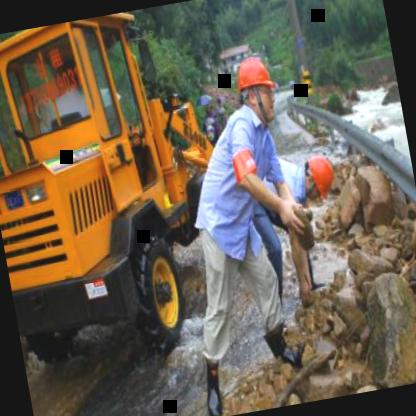helmet: (229, 50, 284, 126), (294, 146, 341, 204)
